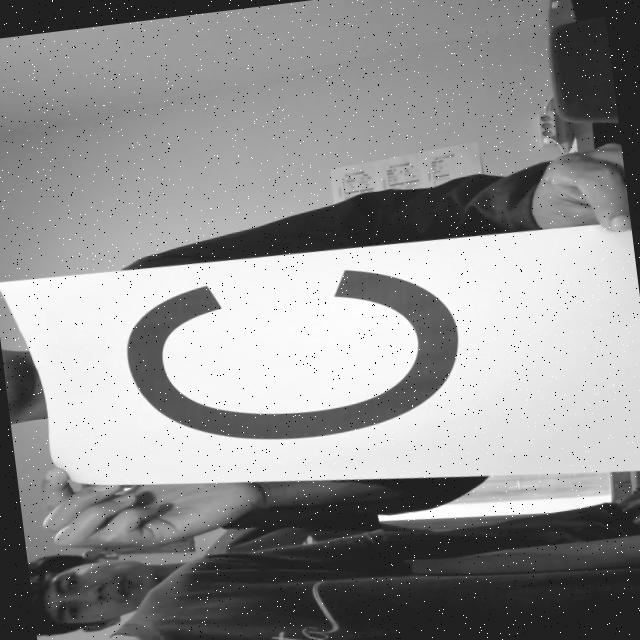c: (100, 243, 489, 469)
